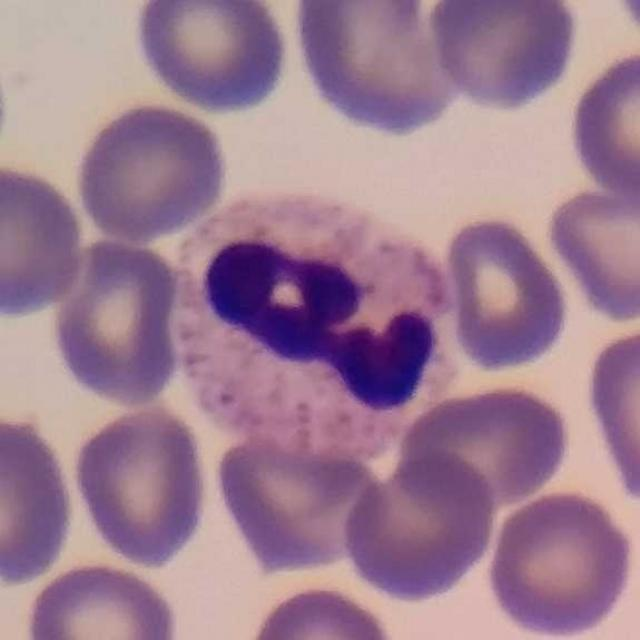Neutrophil: (156, 182, 468, 471)
RBC: (209, 430, 390, 578), (337, 448, 500, 606), (288, 0, 470, 140), (69, 403, 214, 571), (47, 234, 185, 408), (482, 486, 638, 639), (72, 98, 232, 244), (396, 379, 574, 508), (439, 212, 573, 375), (129, 0, 295, 117), (422, 0, 583, 115), (0, 159, 90, 321), (543, 178, 640, 325), (0, 410, 79, 588), (20, 557, 183, 640), (564, 43, 640, 206), (581, 318, 640, 513), (239, 581, 401, 640)
